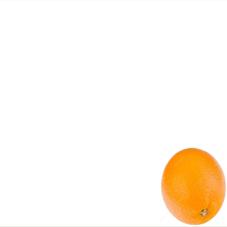orange: (156, 144, 226, 226)
